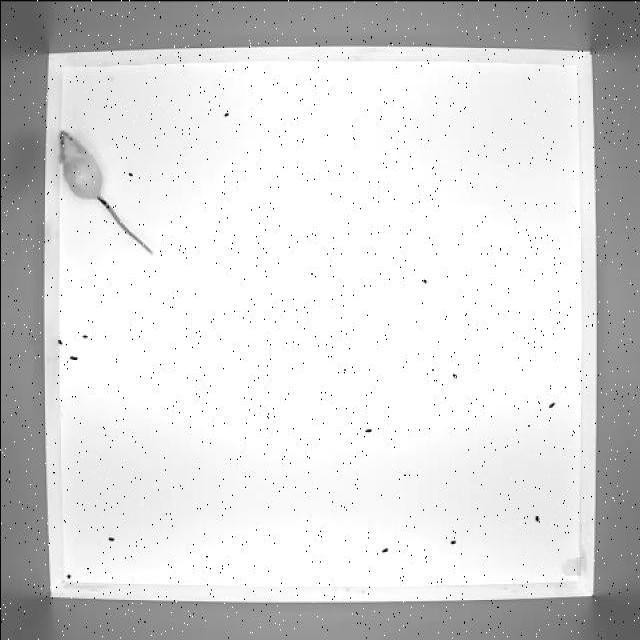rat: (55, 126, 159, 261)
